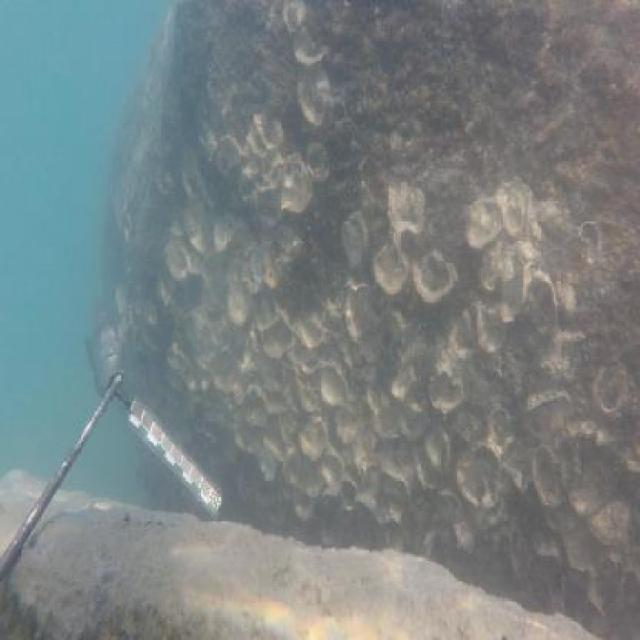acanthopagrus_palmaris: (86, 291, 122, 406)
